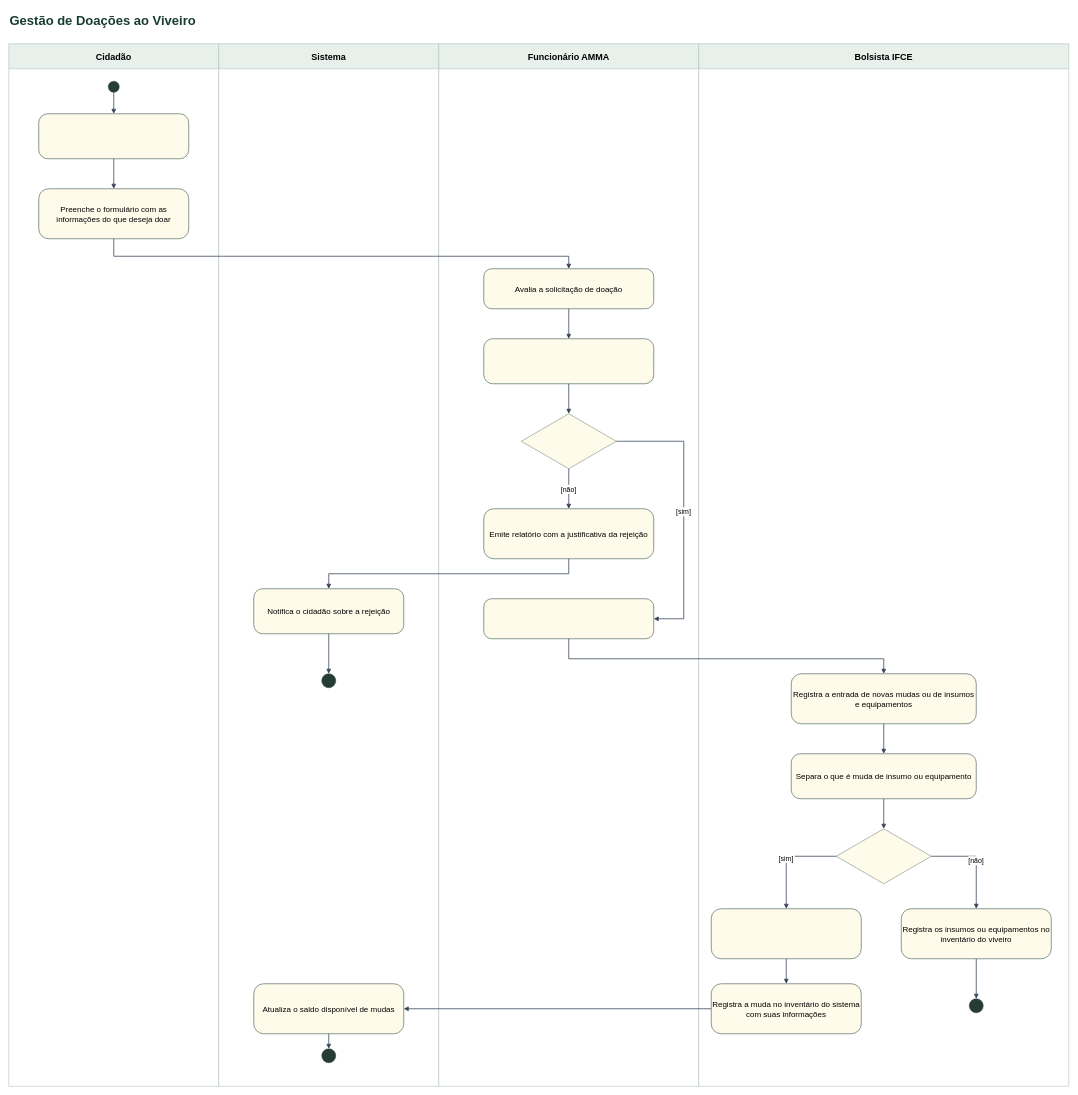
This 1078x1095 diagram has some shape labels left out. The box of each missing label's shape, as (x1, y1, x2, y2) in pixels:
A doação é muda?: (836, 828, 931, 884)
Define a aprovação ou rejeição da doação: (483, 338, 654, 384)
Determina os tratamentos pré-germinativos a realizar: (711, 908, 861, 959)
Doação aprovada?: (521, 413, 616, 469)
Envia a solicitação para o viveiro: (483, 598, 654, 639)
Registra que deseja realizar uma doação para o viveiro: (38, 113, 189, 159)
